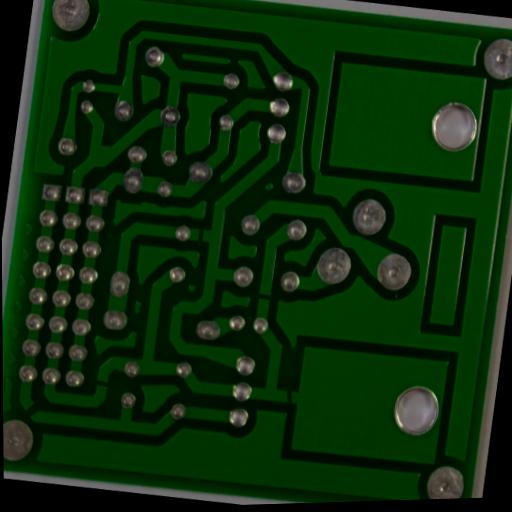open_circuit: (22, 395, 45, 422), (88, 373, 114, 396), (281, 385, 300, 410), (253, 288, 277, 306), (194, 223, 209, 246)
